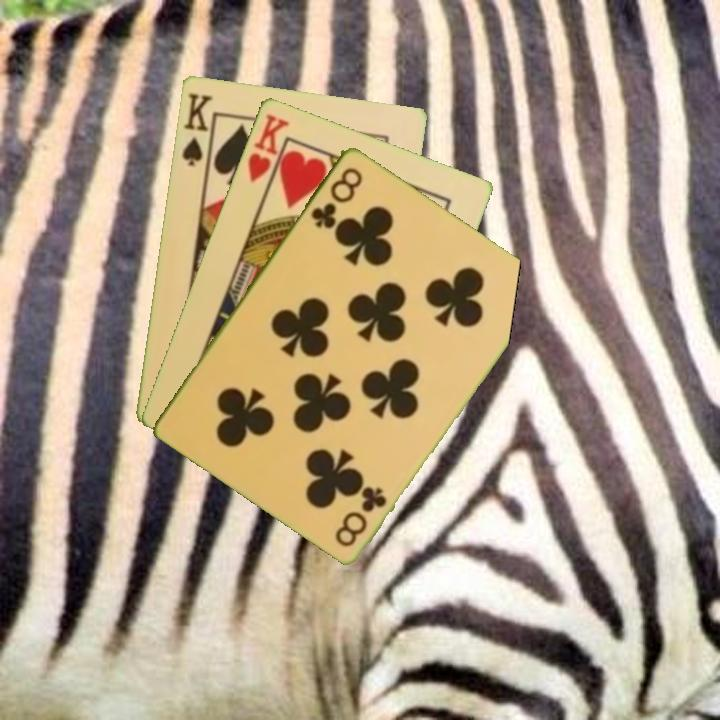8c: (307, 163, 366, 232), (331, 482, 390, 550)
Kh: (244, 110, 292, 195)
Ks: (178, 89, 216, 171)
